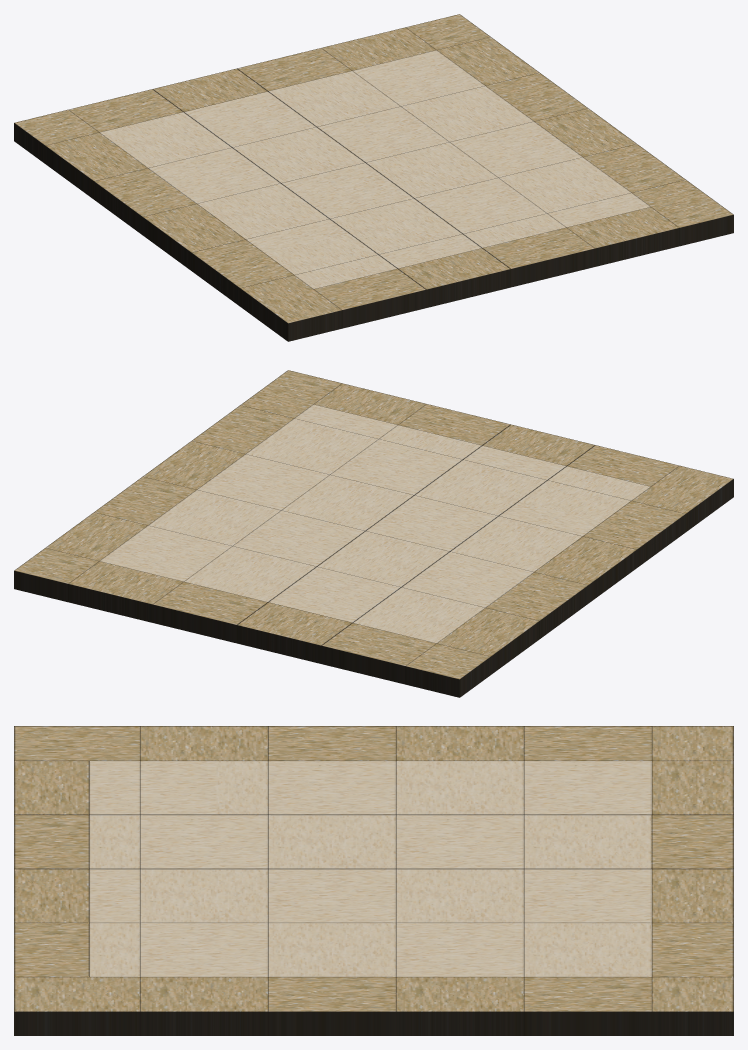
3 views of the same model, one above another, from view 1: azimuth 30°, elevation 25°; view 2: azimuth 150°, elevation 25°; view 3: azimuth 270°, elevation 25° (orthographic). The views are drawn at different scales.
Visible parts, largest first — view 1: Floor_531_536; view 2: Floor_531_536; view 3: Floor_531_536.
Part boxes in pixels (<box>): Floor_531_536: <box>14,14,733,341</box>; Floor_531_536: <box>14,370,733,697</box>; Floor_531_536: <box>14,726,733,1035</box>.
Bounding box in the file's own units: 1.61 × 0.0632 × 1.71.
1 material, 1 textured.
